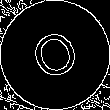O_SE: (25, 23, 85, 87)
